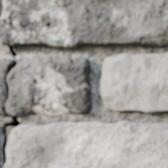brick: (1, 0, 167, 47), (4, 121, 167, 167), (101, 54, 167, 112)
broken_brick: (6, 53, 92, 117), (0, 57, 10, 107), (0, 113, 8, 117)
crack: (0, 2, 20, 165), (34, 3, 60, 44)
